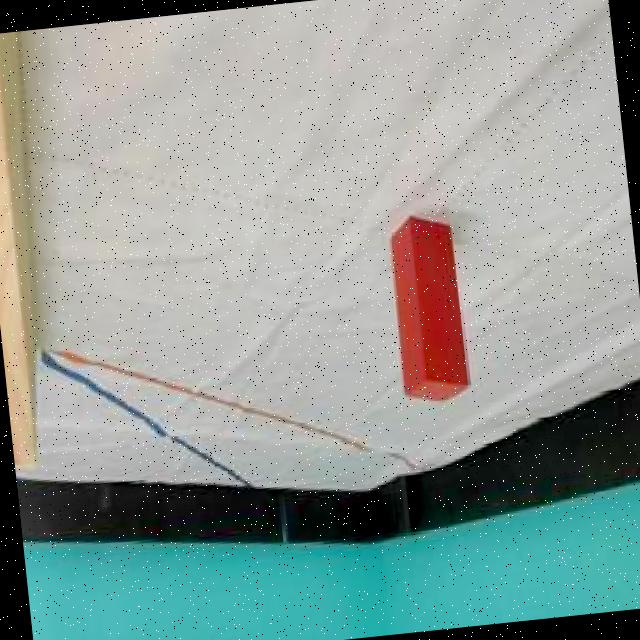redbox: (386, 210, 474, 405)
